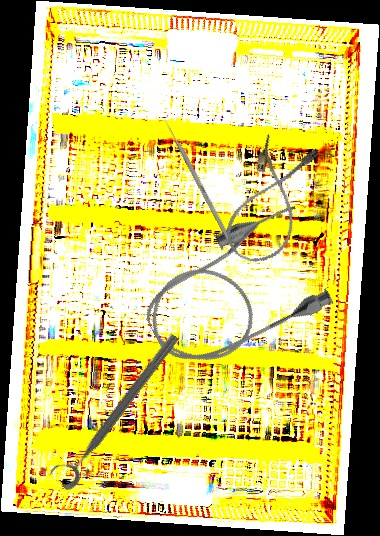Cannula: (126, 195, 344, 385), (218, 130, 324, 272)
Fixation Ring: (46, 324, 184, 493)
Pusher: (161, 115, 231, 240)
